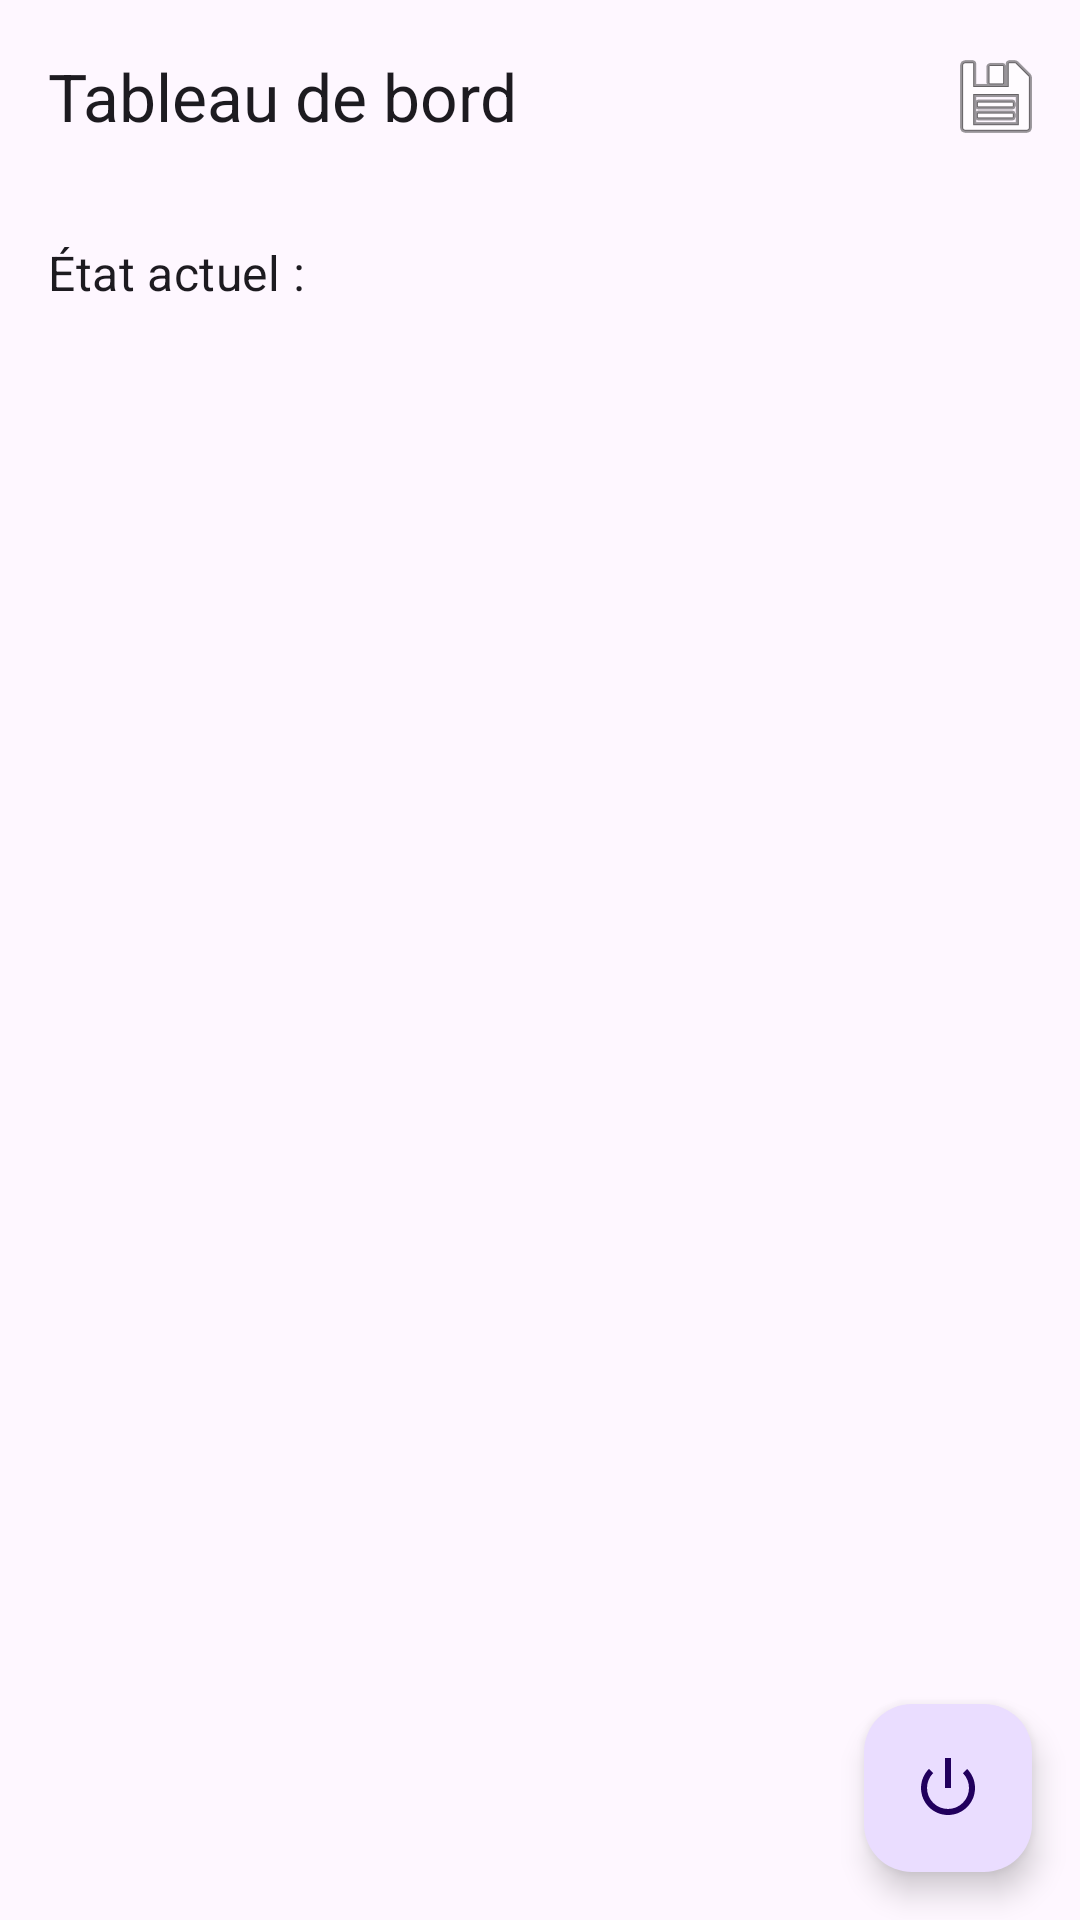

Icons on this 1080 x 1920 Android screen, each with its box as (x1, y1, x2, y2):
Fermer l’application: (864, 1704, 1032, 1872)
